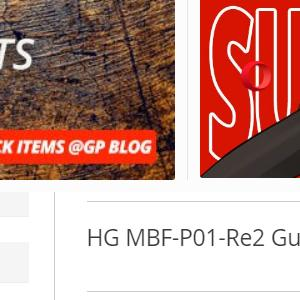opera: (242, 60, 273, 91)
